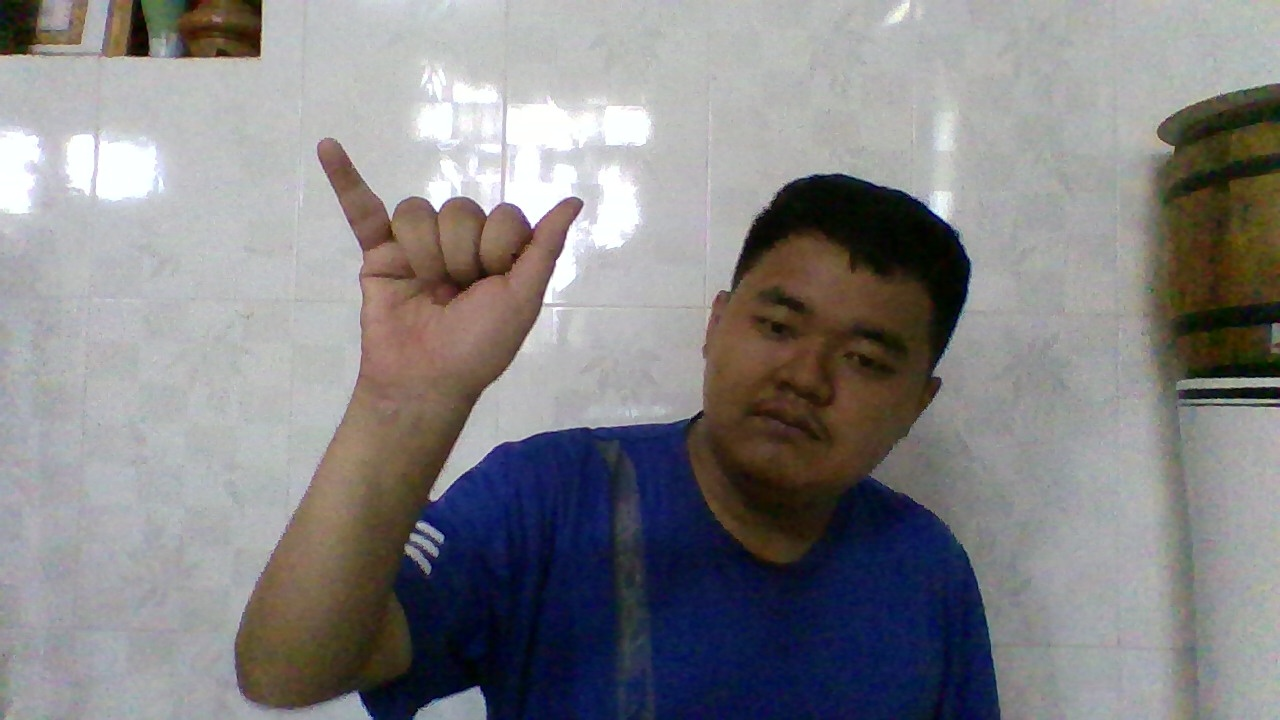Y: (311, 130, 583, 405)
